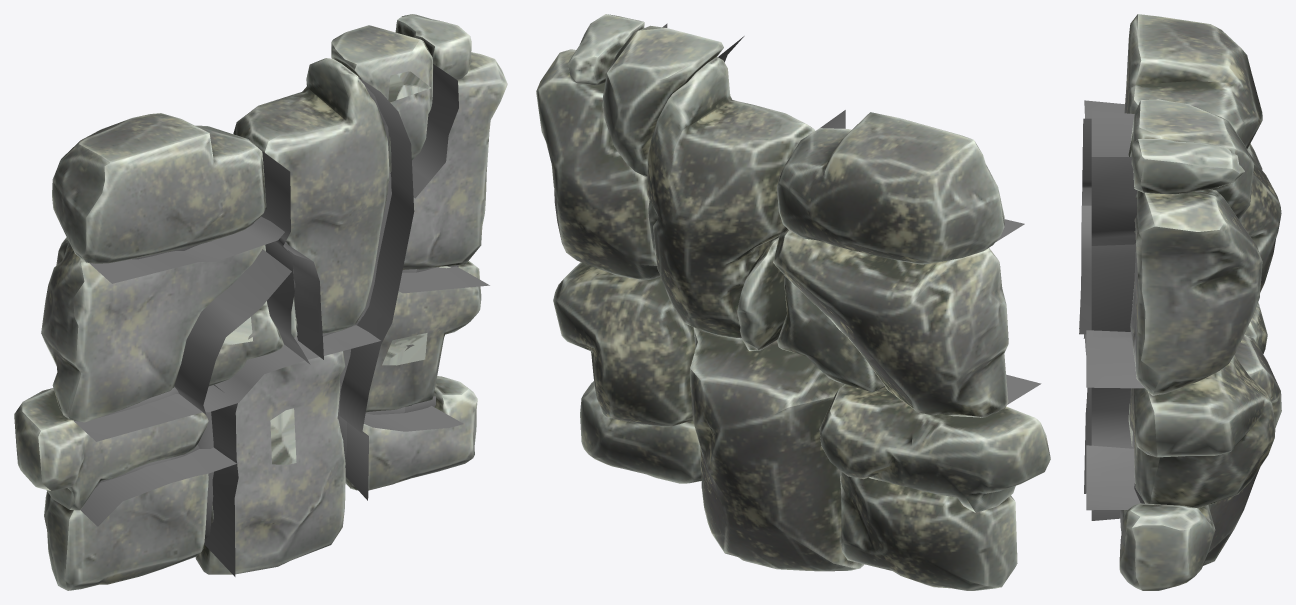
Rendered from HL_Floating_Platform_B.fbx.
3 views of the same model, side by side, from view 1: azimuth 30°, elevation 25°; view 2: azimuth 150°, elevation 25°; view 3: azimuth 270°, elevation 25° (orthographic). The views are drawn at different scales.
Visible parts, largest first — view 1: HL_Floating_Platform_B; view 2: HL_Floating_Platform_B; view 3: HL_Floating_Platform_B.
Part boxes in pixels (<box>): HL_Floating_Platform_B: <box>14,14,507,590</box>; HL_Floating_Platform_B: <box>536,14,1050,590</box>; HL_Floating_Platform_B: <box>1079,14,1281,590</box>.
Size of the model in its own units: 796 by 777 by 288.
